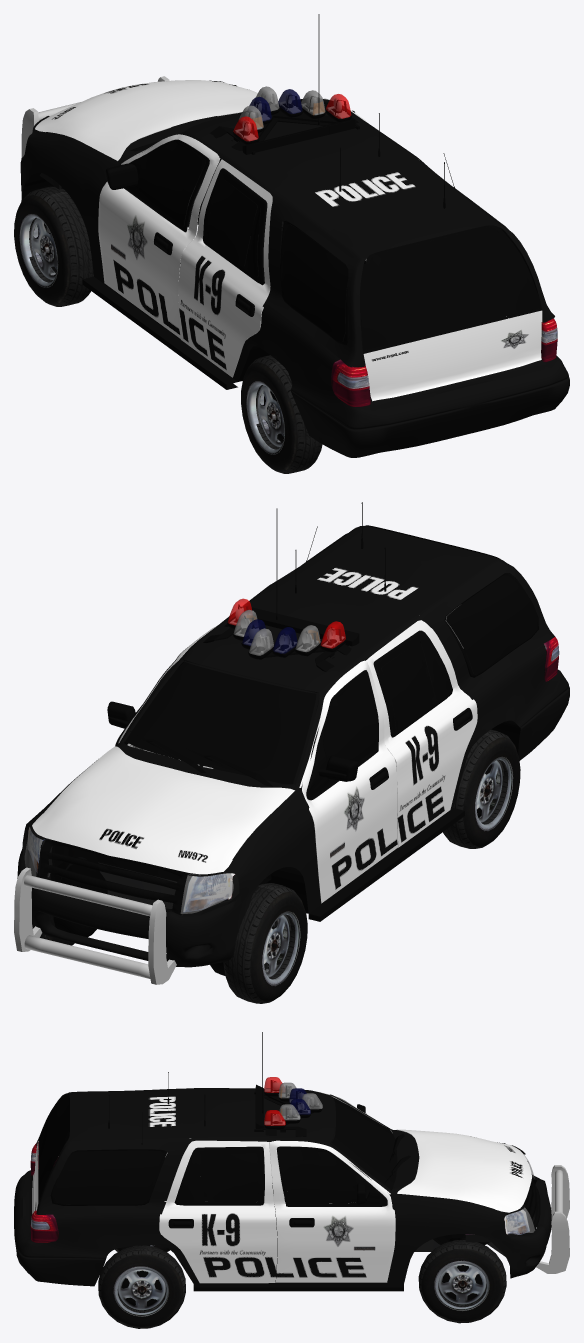
The model's file is FordPD1.fbx.
3 views of the same model, one above another, from view 1: azimuth 30°, elevation 25°; view 2: azimuth 150°, elevation 25°; view 3: azimuth 270°, elevation 25° (orthographic). The views are drawn at different scales.
Parts seen in each view (by area): view 1: hood, Object009, Object011, ChamferCyl002, Object007, ChamferCyl003, floor, rearcove, Object002, Box031, Box012, Cylinder003 (+2 smaller); view 2: hood, Object011, Object006, Object009, Cylinder001, ChamferCyl002, Object007, ChamferCyl003, grill, Box004, floor, Box007 (+6 smaller); view 3: hood, Object009, Object011, Object007, ChamferCyl004, ChamferCyl005, Object006, Cylinder001, floor, Cylinder006, Cylinder005, rearcove (+7 smaller).
Boxes of the visible parts, <box> form: hood: <box>20,80,569,457</box>; Object009: <box>137,142,537,349</box>; Object011: <box>35,80,257,160</box>; ChamferCyl002: <box>14,186,93,306</box>; Object007: <box>105,110,541,353</box>; ChamferCyl003: <box>241,355,322,473</box>; floor: <box>82,264,365,389</box>; rearcove: <box>331,318,557,406</box>; Object002: <box>22,172,507,451</box>; Box031: <box>242,119,355,154</box>; Box012: <box>209,101,359,154</box>; Cylinder003: <box>31,218,57,280</box>; hood: <box>17,526,569,967</box>; Object011: <box>32,746,294,874</box>; Object006: <box>125,661,319,782</box>; Object009: <box>177,574,537,779</box>; Cylinder001: <box>14,867,176,984</box>; ChamferCyl002: <box>223,883,307,1003</box>; Object007: <box>107,525,538,800</box>; ChamferCyl003: <box>443,729,520,848</box>; grill: <box>37,839,187,915</box>; Box004: <box>50,818,271,915</box>; floor: <box>217,769,464,921</box>; Box007: <box>27,827,258,913</box>; hood: <box>14,1088,551,1286</box>; Object009: <box>39,1095,356,1204</box>; Object011: <box>397,1129,531,1212</box>; Object007: <box>38,1093,387,1206</box>; ChamferCyl004: <box>98,1245,185,1328</box>; ChamferCyl005: <box>418,1240,506,1323</box>; Object006: <box>330,1098,397,1188</box>; Cylinder001: <box>536,1165,569,1273</box>; floor: <box>193,1284,403,1291</box>; Cylinder006: <box>438,1264,486,1305</box>; Cylinder005: <box>118,1269,165,1310</box>; rearcove: <box>30,1142,58,1242</box>.
Size of the model in its own units: 1759 by 2477 by 4680.
